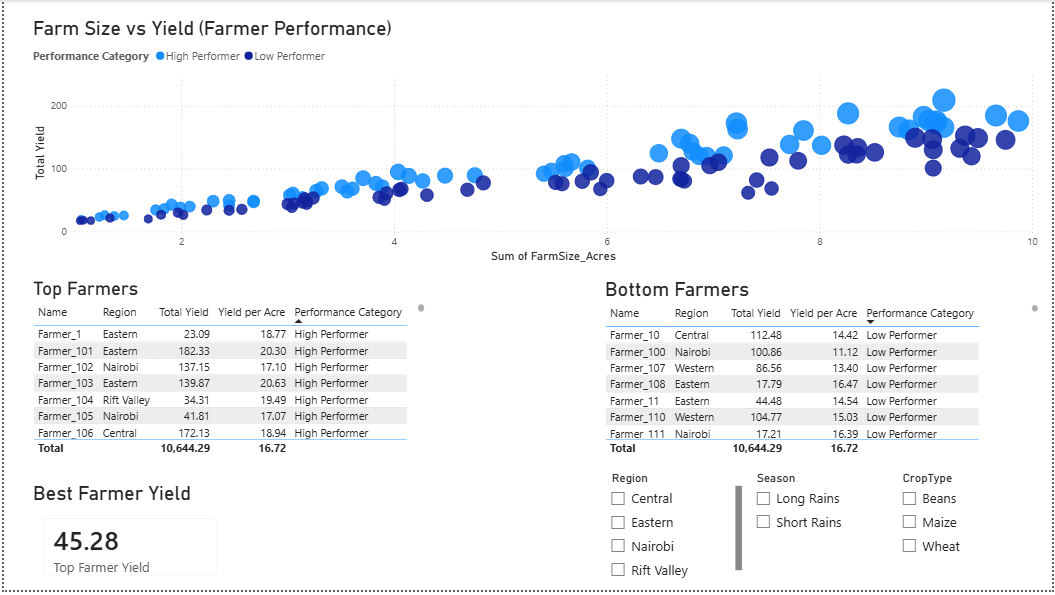

The page's visual inventory and layout, read from the dashboard file:
{"tool":"powerbi","page":{"name":"Farmer Analysis","canvas":[1280,720],"ordinal":1},"visuals":[{"type":"scatterChart","title":"Farm Size vs Yield (Farmer Performance)","fields":{"X":["Sum(Farmers.FarmSize_Acres)"],"Y":["Production.Total Yield"],"Size":["Production.Total Yield"],"Category":["Farmers.FarmerID"],"Series":["Farmers.Performance Category"]},"box":[30.5,20.7,1236.2,305.1],"z":0},{"type":"tableEx","title":"Top Farmers","fields":{"Values":["Farmers.Name","Farmers.Region","Production.Total Yield","Farmers.Yield per Acre","Farmers.Performance Category"]},"box":[30.7,338.7,488,221.3],"z":1000},{"type":"tableEx","title":"Bottom Farmers","fields":{"Values":["Farmers.Name","Farmers.Region","Production.Total Yield","Farmers.Yield per Acre","Farmers.Performance Category"]},"box":[728,338.7,538.7,221.3],"z":2000},{"type":"cardVisual","title":"Best Farmer Yield","fields":{"Data":["Production.Top Farmer Yield"]},"box":[30.7,588,246.7,132],"z":3000},{"type":"slicer","fields":{"Values":["Farmers.Region"]},"box":[728,569.3,177.3,150.7],"z":4000},{"type":"slicer","fields":{"Values":["Production.Season"]},"box":[905.3,569.3,178.7,150.7],"z":5000},{"type":"slicer","fields":{"Values":["Production.CropType"]},"box":[1084,569.3,182.7,150.7],"z":6000}]}

Visuals, with their boxes in screenshot pixels (x1, y1, x2, y2), scaled from the page's 1280x720 canvas onto the 1055x595 screenshot:
"Farm Size vs Yield (Farmer Performance)" scatterChart: x1=25 y1=17 x2=1044 y2=269
"Top Farmers" tableEx: x1=25 y1=280 x2=428 y2=463
"Bottom Farmers" tableEx: x1=600 y1=280 x2=1044 y2=463
"Best Farmer Yield" cardVisual: x1=25 y1=486 x2=229 y2=594
slicer - Farmers.Region: x1=600 y1=470 x2=746 y2=594
slicer - Production.Season: x1=746 y1=470 x2=893 y2=594
slicer - Production.CropType: x1=893 y1=470 x2=1044 y2=594
